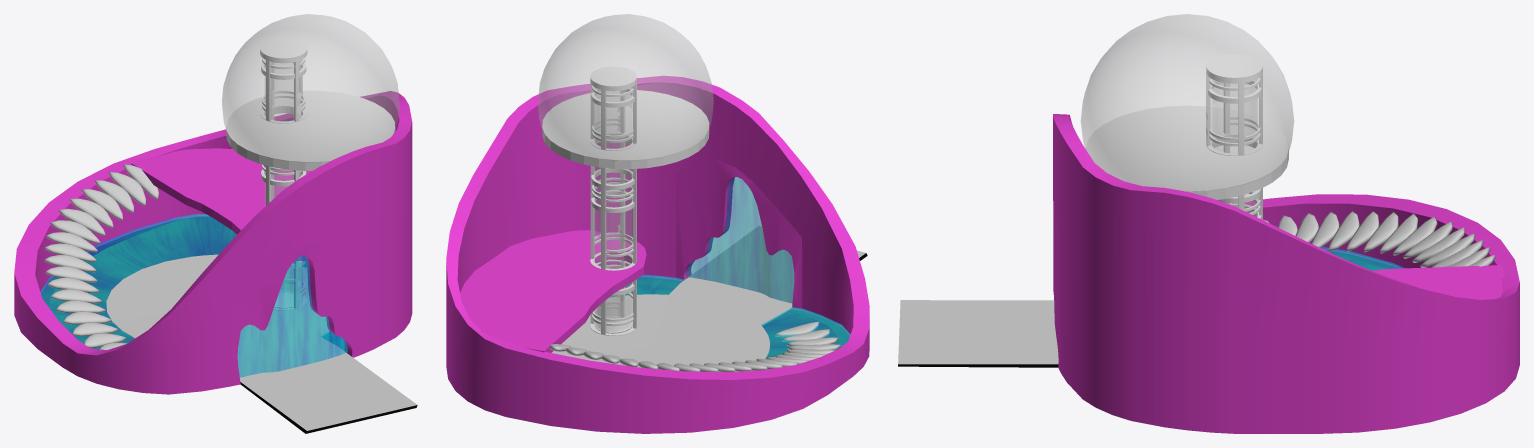
Rendered from G_MochiMuseum_Proxy_v03_SomeUCXAndTextures.fbx.
3 views of the same model, side by side, from view 1: azimuth 30°, elevation 25°; view 2: azimuth 150°, elevation 25°; view 3: azimuth 270°, elevation 25° (orthographic). The views are drawn at different scales.
Parts seen in each view (by area): view 1: Cube.011, G_Arch_Floor1_Floor, Cube.012, G_Arch_Floor3_Floor, G_Arch_Floor1_Stairs, G_Arch_Floor2_Floor, G_Arch_Floor1_Waterloop, Cube.033, Cylinder, Cylinder.001; view 2: Cube.011, Cube.012, G_Arch_Floor1_Floor, G_Arch_Floor2_Floor, G_Arch_Floor3_Floor, Cylinder, Cube.033, Cylinder.001, G_Arch_Floor1_Stairs, G_Arch_Floor1_Waterloop, G_Elevator_Booth, Cylinder.004; view 3: Cube.011, Cube.012, G_Arch_Floor3_Floor, G_Arch_Floor1_Floor, G_Arch_Floor1_Stairs, Cylinder, G_Arch_Floor2_Floor, Cylinder.001, G_Arch_Floor1_Waterloop.
Part boxes in pixels (x1,y1,x2,y2): Cube.011: (14, 91, 412, 394); G_Arch_Floor1_Floor: (41, 216, 417, 433); Cube.012: (222, 14, 399, 162); G_Arch_Floor3_Floor: (226, 90, 395, 170); G_Arch_Floor1_Stairs: (44, 164, 158, 349); G_Arch_Floor2_Floor: (131, 148, 311, 261); G_Arch_Floor1_Waterloop: (40, 214, 344, 350); Cube.033: (237, 255, 347, 377); Cylinder: (260, 38, 307, 310); Cylinder.001: (265, 59, 302, 298); Cube.011: (446, 75, 869, 433); Cube.012: (538, 14, 713, 160); G_Arch_Floor1_Floor: (551, 226, 867, 371); G_Arch_Floor2_Floor: (460, 230, 646, 352); G_Arch_Floor3_Floor: (542, 90, 709, 169); Cylinder: (590, 66, 636, 335); Cube.033: (686, 177, 794, 303); Cylinder.001: (595, 88, 632, 332); G_Arch_Floor1_Stairs: (550, 321, 840, 371); G_Arch_Floor1_Waterloop: (610, 274, 850, 370); G_Elevator_Booth: (594, 295, 632, 333); Cylinder.004: (594, 232, 633, 257); Cube.011: (1053, 114, 1519, 433); Cube.012: (1080, 14, 1294, 190); G_Arch_Floor3_Floor: (1086, 105, 1288, 199); G_Arch_Floor1_Floor: (898, 250, 1398, 367); G_Arch_Floor1_Stairs: (1263, 211, 1495, 267); Cylinder: (1206, 54, 1262, 219); G_Arch_Floor2_Floor: (1372, 265, 1504, 299); Cylinder.001: (1212, 79, 1257, 216); G_Arch_Floor1_Waterloop: (1321, 247, 1404, 270).
Size of what is drawn, in the model's own units: 7660 by 6429 by 10152.
